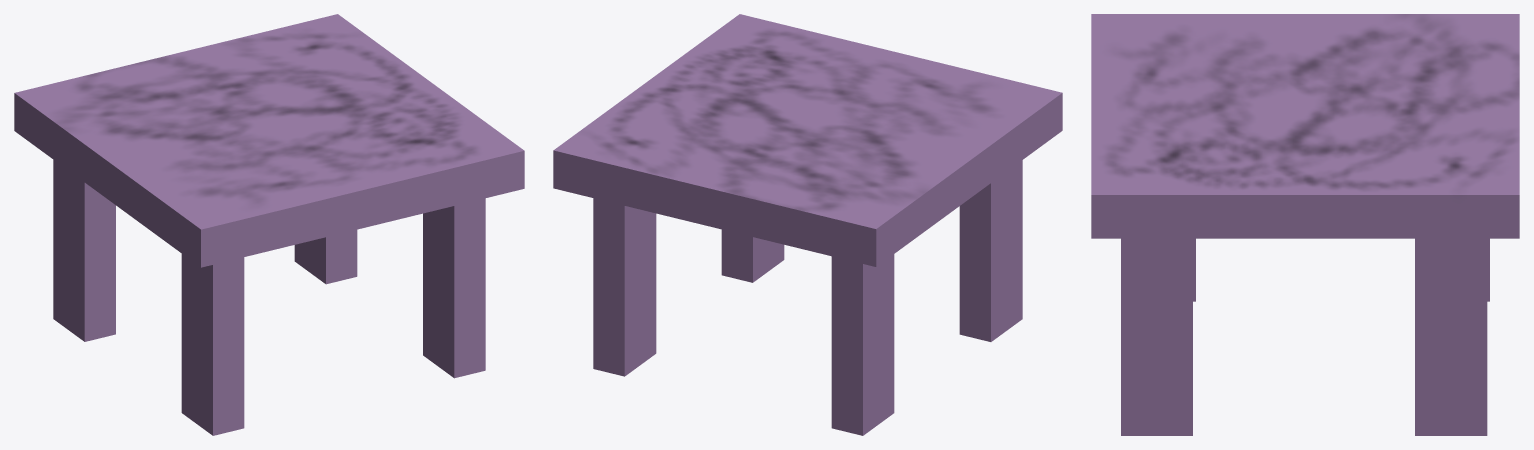
The model's file is table_simple.fbx.
3 views of the same model, side by side, from view 1: azimuth 30°, elevation 25°; view 2: azimuth 150°, elevation 25°; view 3: azimuth 270°, elevation 25° (orthographic). The views are drawn at different scales.
Parts seen in each view (by area): view 1: Cube; view 2: Cube; view 3: Cube.
Part boxes in pixels (x1,y1,x2,y2): Cube: [14, 14, 524, 435]; Cube: [553, 14, 1062, 435]; Cube: [1091, 14, 1519, 435].
Size of the model in its own units: 715 by 471 by 715.
